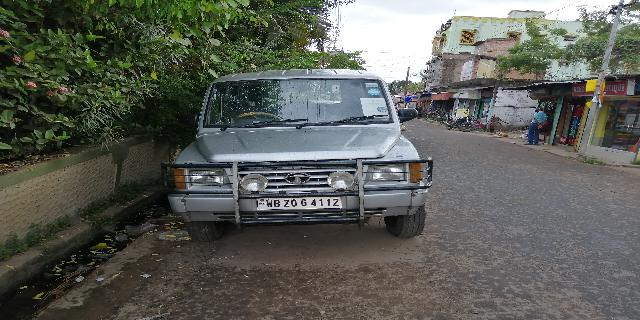Car: (168, 66, 436, 247)
